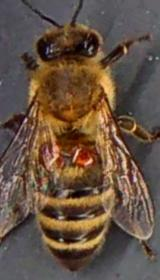varroa_mite: (65, 142, 97, 169)
